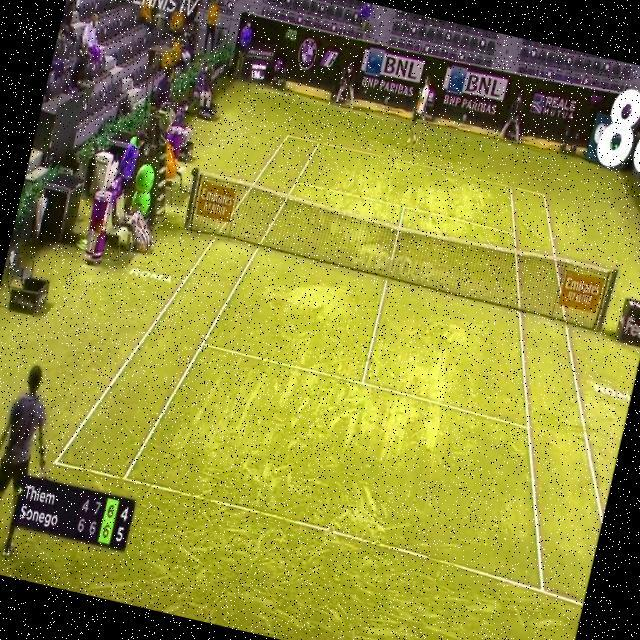court: (47, 96, 640, 606)
net: (179, 168, 620, 334)
player: (0, 359, 69, 570)
